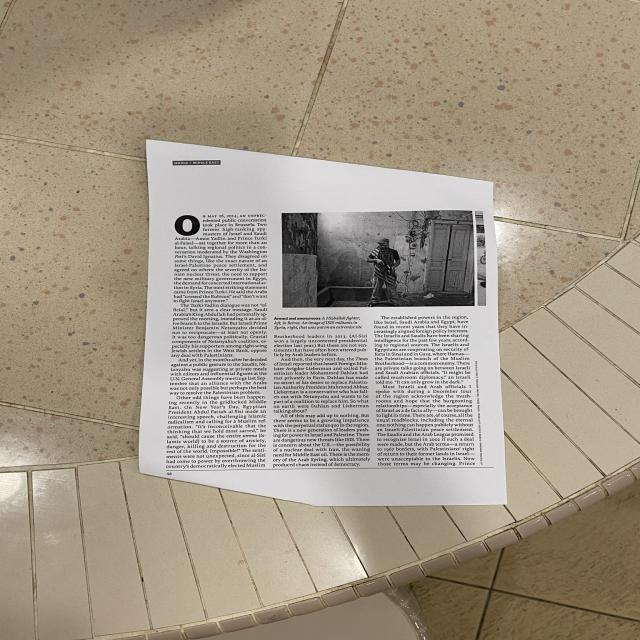document: (138, 140, 507, 506)
